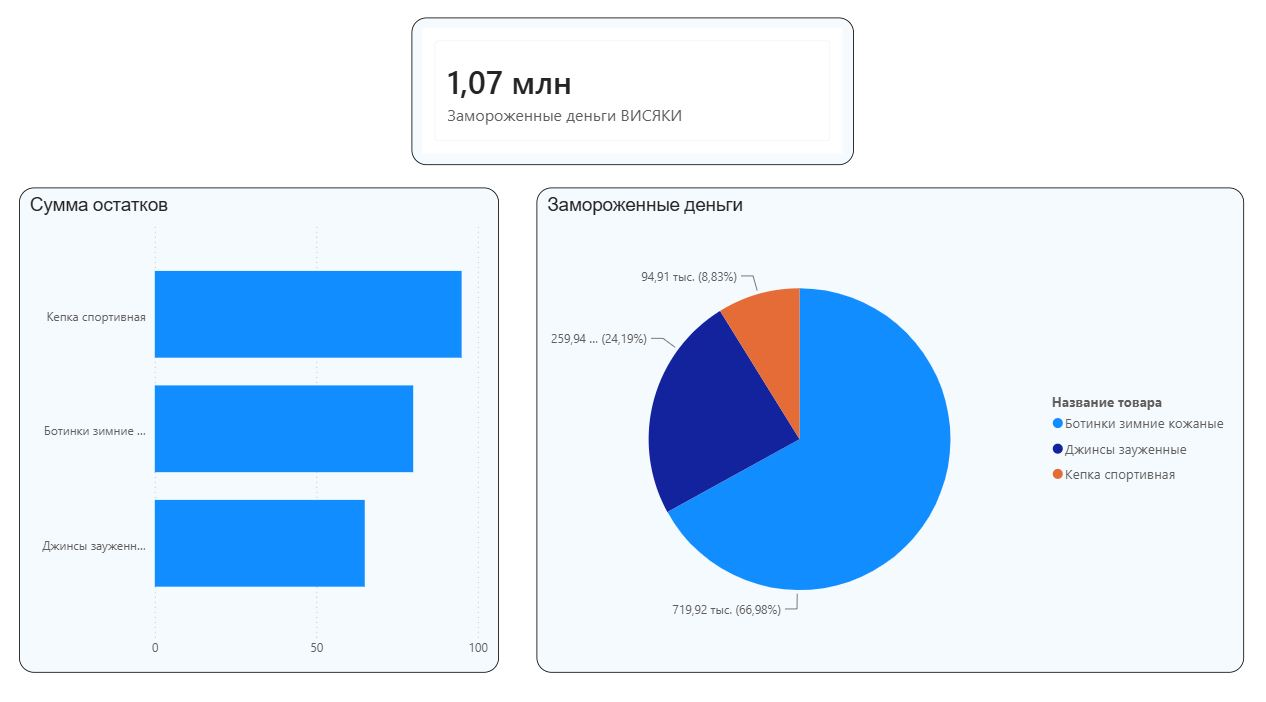

The page's visual inventory and layout, read from the dashboard file:
{"tool":"powerbi","page":{"name":"Страница 1","canvas":[1280,720],"ordinal":0},"visuals":[{"type":"barChart","title":"Сумма остатков","fields":{"Category":["products.product_name"],"Y":["Sum(stock.quantity_in_stock)"]},"box":[25,197.5,480,485],"z":0},{"type":"pieChart","title":"Замороженные деньги","fields":{"Y":["products.Замороженные деньги"],"Category":["products.product_name"]},"box":[542.5,197.5,707.5,485],"z":1000},{"type":"cardVisual","fields":{"Data":["products.Замороженные деньги ВИСЯКИ"]},"box":[417.5,27.5,442.5,147.5],"z":2000}]}

Visuals, with their boxes in screenshot pixels (x1, y1, x2, y2), scaled from the page's 1280x720 canvas onto the 1266x702 screenshot:
"Сумма остатков" barChart: [25,193,499,665]
"Замороженные деньги" pieChart: [537,193,1236,665]
cardVisual - products.Замороженные деньги ВИСЯКИ: [413,27,851,171]
